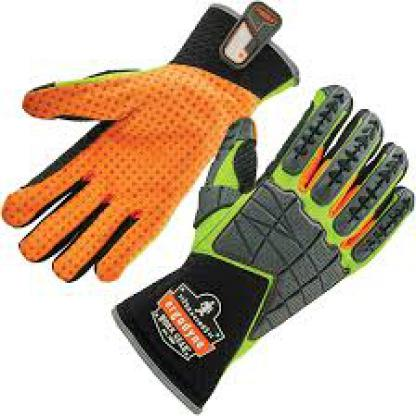with_gloves: (110, 83, 414, 414), (2, 2, 301, 286)
